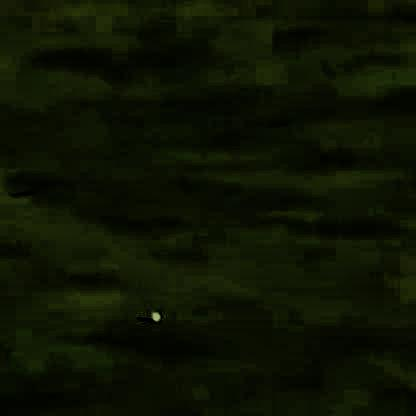golfball: (148, 307, 161, 320)
